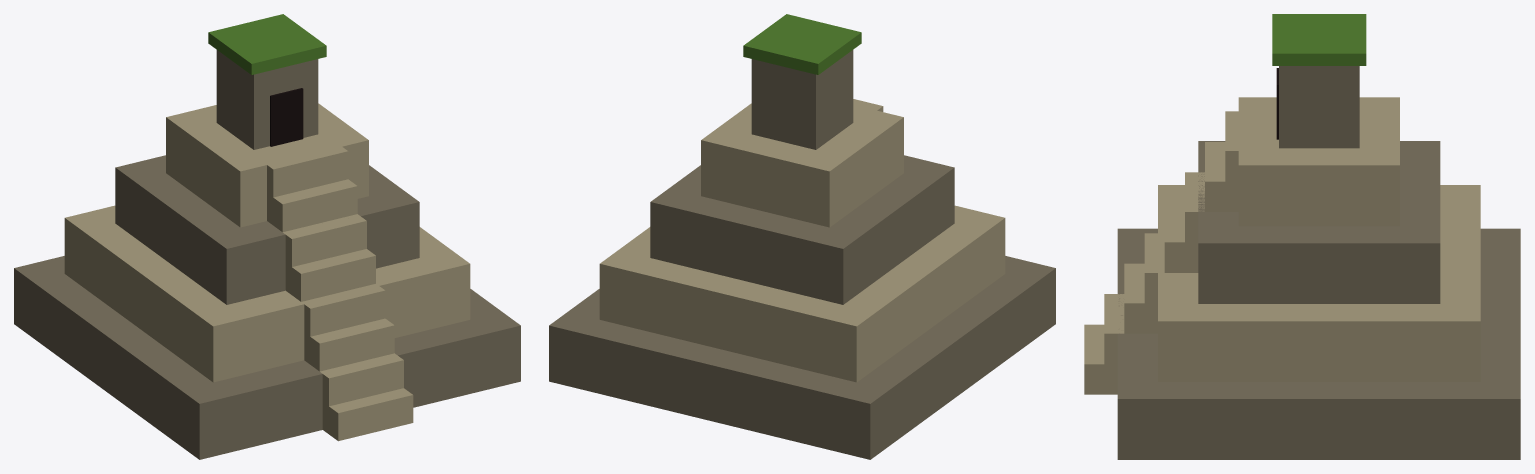
The model's file is temple_stairs.glb.
3 renders of one model, left to right at view 1: azimuth 30°, elevation 25°; view 2: azimuth 150°, elevation 25°; view 3: azimuth 270°, elevation 25°, orthographic. The views are drawn at different scales.
Parts seen in each view (by area): view 1: stone_temple-col, stone_temple_dark-col, moss, eye; view 2: stone_temple_dark-col, stone_temple-col, moss; view 3: stone_temple_dark-col, stone_temple-col, moss.
Part boxes in pixels (x1=…): stone_temple-col: x1=64, y1=103, x2=470, y2=441; stone_temple_dark-col: x1=14, y1=50, x2=520, y2=459; moss: x1=208, y1=14, x2=326, y2=74; eye: x1=270, y1=88, x2=303, y2=146; stone_temple_dark-col: x1=549, y1=50, x2=1055, y2=459; stone_temple-col: x1=599, y1=99, x2=1005, y2=382; moss: x1=743, y1=14, x2=861, y2=74; stone_temple_dark-col: x1=1117, y1=66, x2=1520, y2=459; stone_temple-col: x1=1084, y1=97, x2=1480, y2=394; moss: x1=1272, y1=14, x2=1366, y2=65.
Size of the model in its own units: 6 by 5.6 by 6.5.
